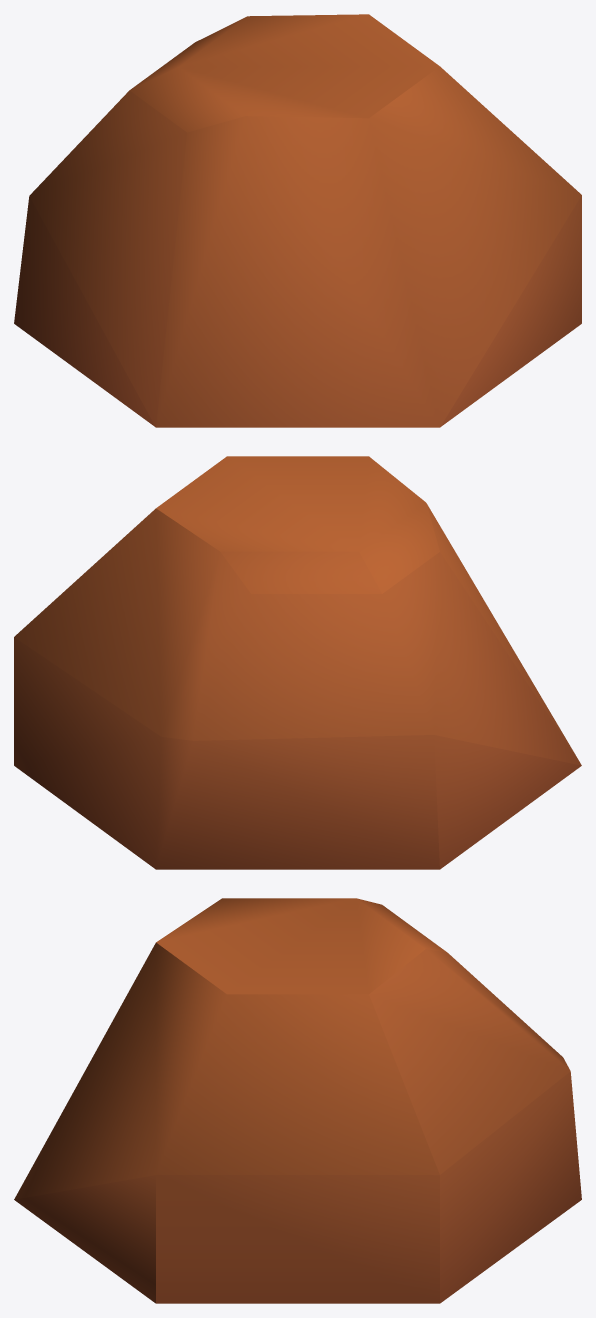
The model's file is space-rock-b.glb.
3 renders of one model, top to bottom at view 1: azimuth 30°, elevation 25°; view 2: azimuth 150°, elevation 25°; view 3: azimuth 270°, elevation 25°, orthographic.
Visible parts, largest first — view 1: rock_B; view 2: rock_B; view 3: rock_B.
Boxes of the visible parts, x1,y1,x2,y2 form: rock_B: (14, 14, 581, 427); rock_B: (14, 456, 581, 869); rock_B: (14, 898, 581, 1303).
Bounding box in the file's own units: 0.6952 × 0.4014 × 0.8028.
